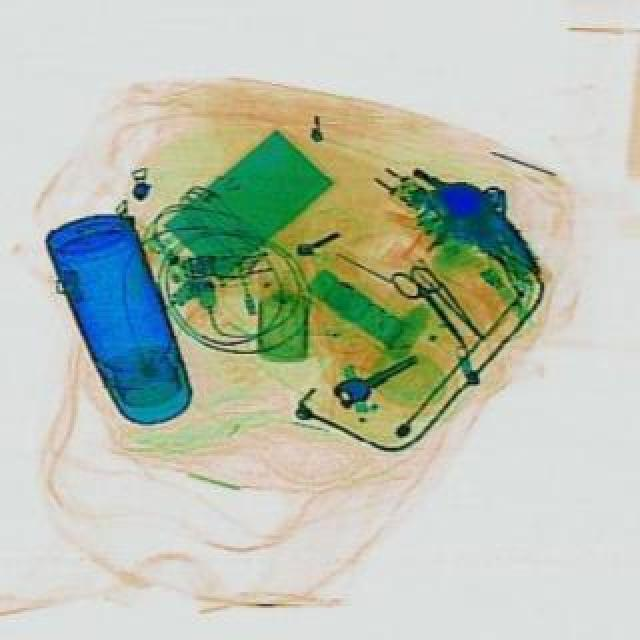pliers: (384, 260, 480, 360)
